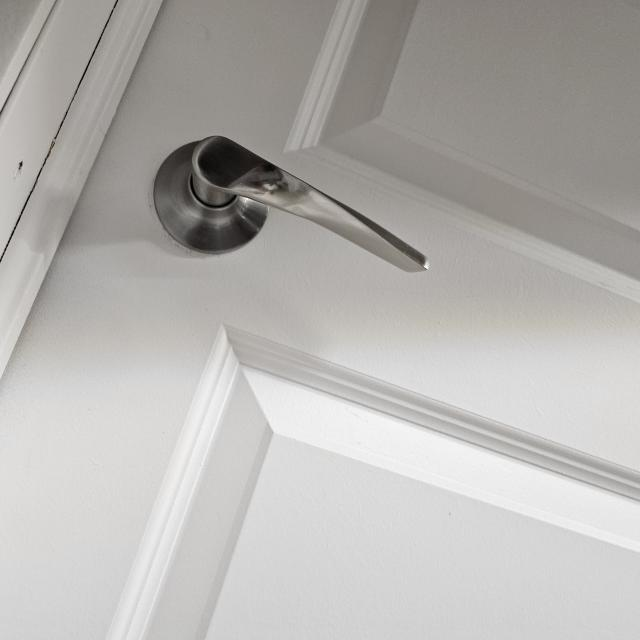door-handle: (154, 136, 428, 271)
